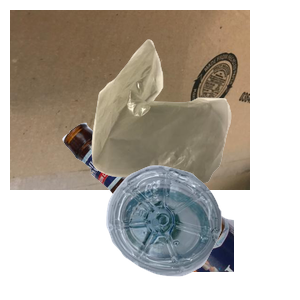cardboard: (10, 10, 250, 190)
glass: (60, 120, 300, 300)
plastic: (104, 163, 300, 300)
trash: (89, 37, 300, 213)
